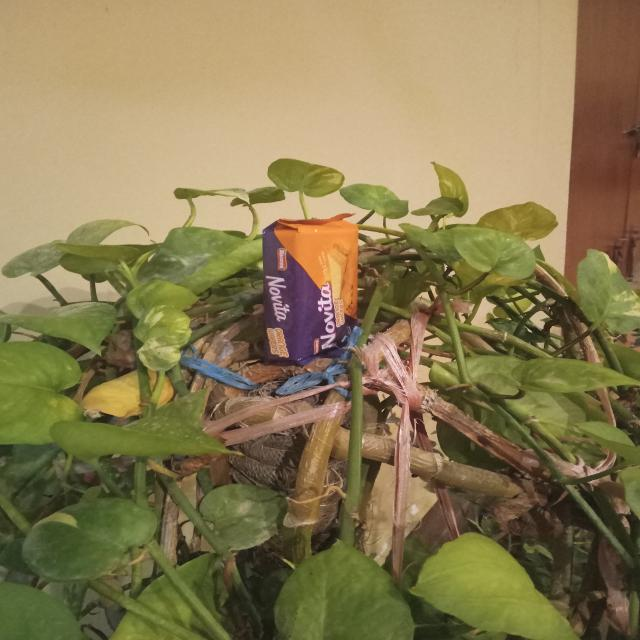Plastic: (260, 211, 366, 362)
